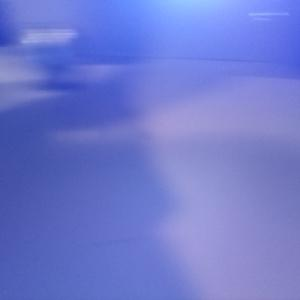alive_ball: (12, 22, 90, 87)
